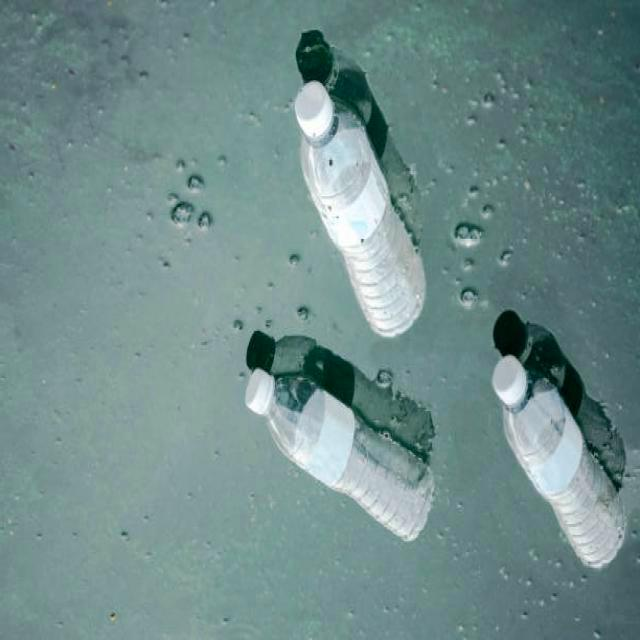Plastic: (286, 84, 438, 342), (244, 366, 444, 548), (487, 354, 636, 571)
